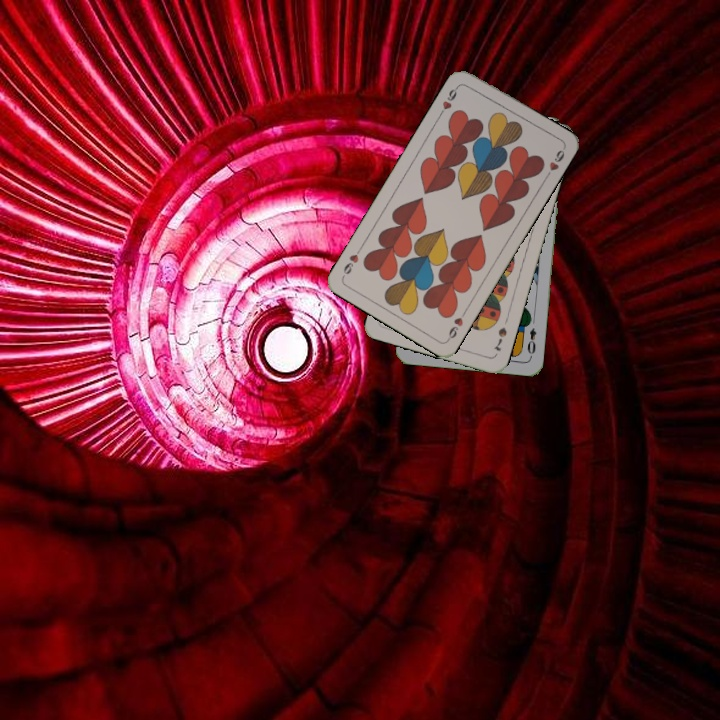EO: (523, 324, 539, 360)
H9: (435, 81, 462, 118), (444, 306, 469, 343)
S7: (490, 323, 509, 354)
